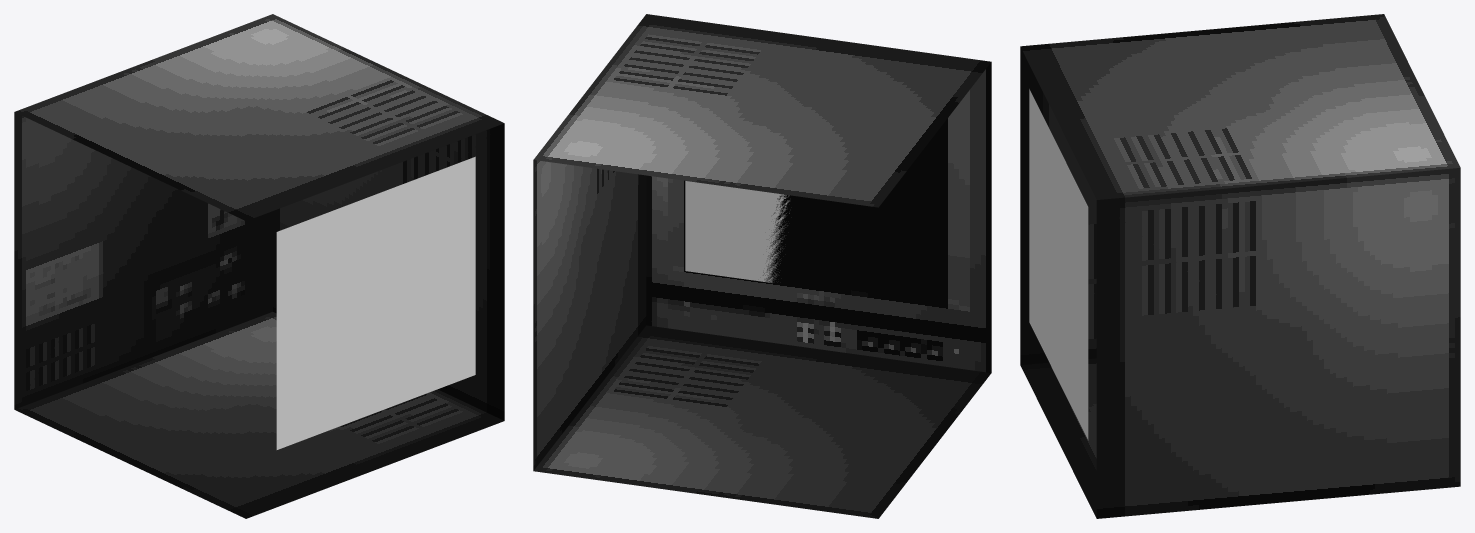
File: primary_058.glb
The picture shows the model from 3 angles, left to right: view 1: azimuth 30°, elevation 25°; view 2: azimuth 150°, elevation 25°; view 3: azimuth 270°, elevation 25°; orthographic projection. The views are drawn at different scales.
Visible parts, largest first — view 1: Object; view 2: Object; view 3: Object.
Part boxes in pixels (x1,y1,x2,y2): Object: [14, 14, 504, 518]; Object: [533, 14, 991, 518]; Object: [1020, 14, 1460, 518].
Size of the model in its own units: 0.5465 by 0.4365 by 0.5465.
Materials: 7 (7 with a texture image).
